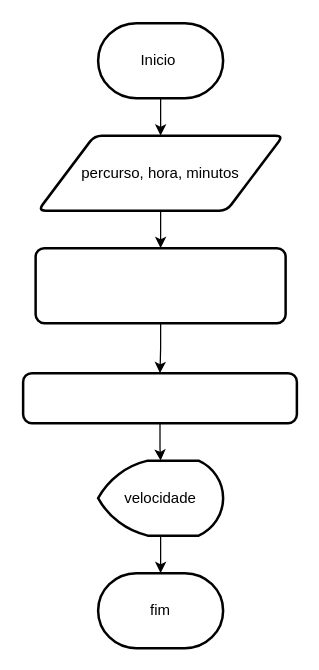
This 319x670 diagram has some shape labels left out. Each missing label, with the centre of its shape:
"tempo = minutos / 60 + hora" belongs at (x=160, y=285).
"velocidade = percurso / tempo" belongs at (x=159, y=397).
